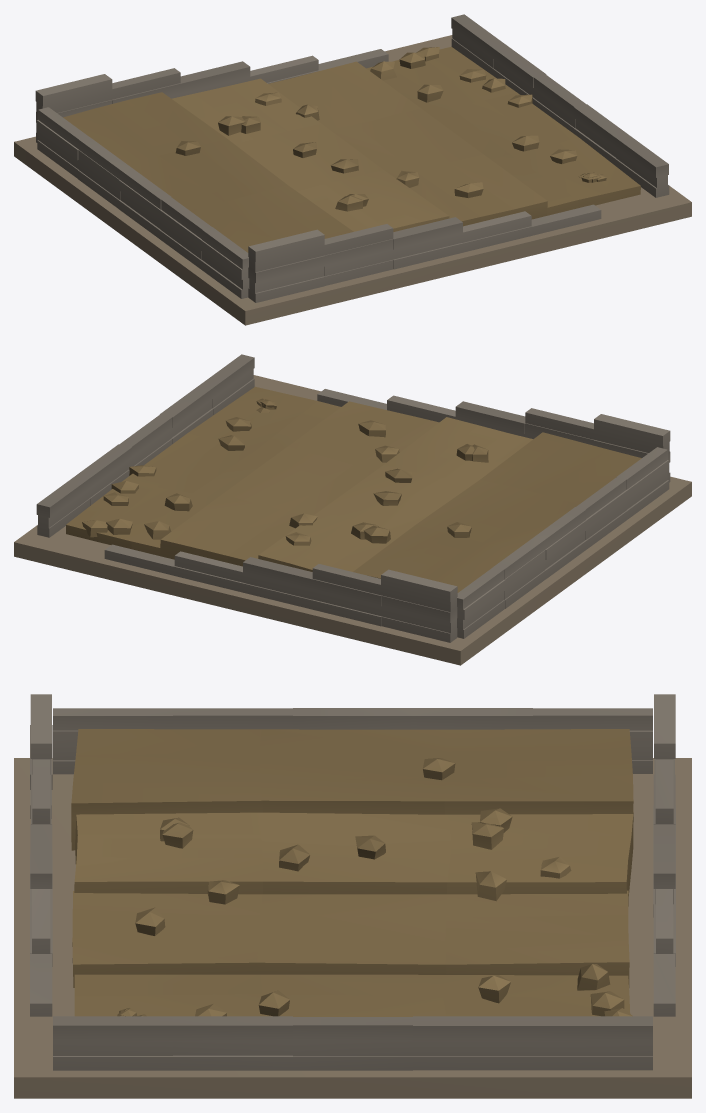
The model's file is caral_pyramid_small_phase1_lod0.glb.
3 views of the same model, one above another, from view 1: azimuth 30°, elevation 25°; view 2: azimuth 150°, elevation 25°; view 3: azimuth 270°, elevation 25° (orthographic). The views are drawn at different scales.
Visible parts, largest first — view 1: GEO-Arch_pyramid_small_phase1_LOD0; view 2: GEO-Arch_pyramid_small_phase1_LOD0; view 3: GEO-Arch_pyramid_small_phase1_LOD0.
Part boxes in pixels (bbox=[...]): GEO-Arch_pyramid_small_phase1_LOD0: bbox=[14, 14, 691, 325]; GEO-Arch_pyramid_small_phase1_LOD0: bbox=[14, 354, 691, 665]; GEO-Arch_pyramid_small_phase1_LOD0: bbox=[14, 694, 691, 1098].
Bounding box in the file's own units: 19.4 × 2.73 × 17.4.
